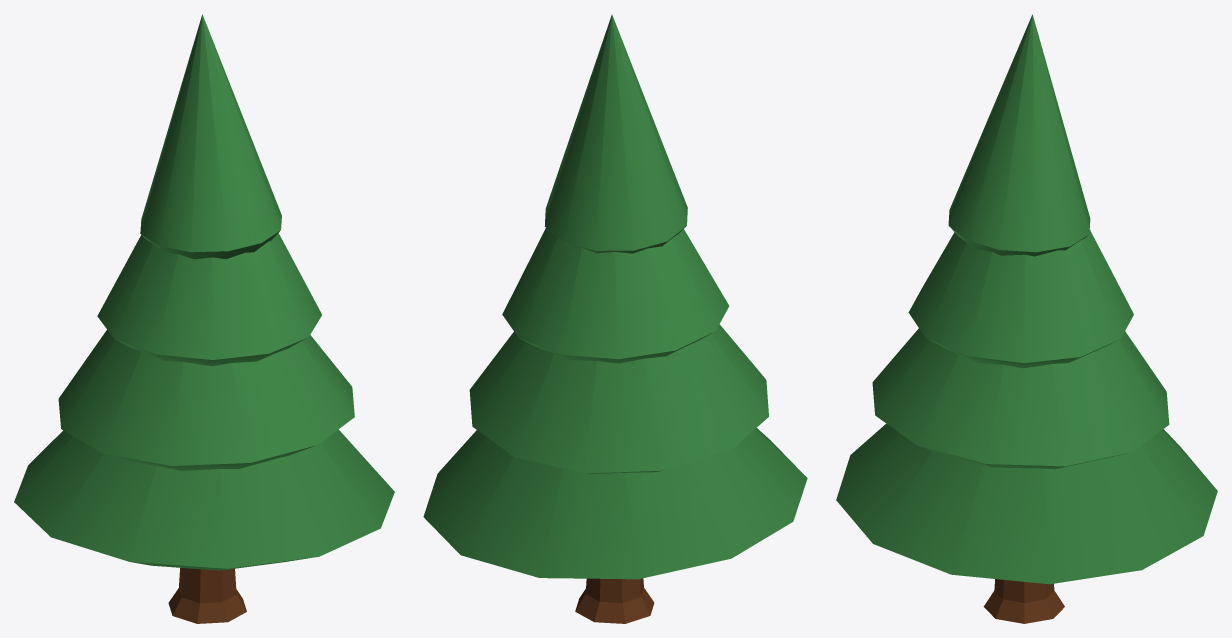
File: p_tree_pine_3.glb
3 renders of one model, left to right at view 1: azimuth 30°, elevation 25°; view 2: azimuth 150°, elevation 25°; view 3: azimuth 270°, elevation 25°, orthographic.
Parts seen in each view (by area): view 1: body; view 2: body; view 3: body.
Boxes of the visible parts, x1,y1,x2,y2 form: body: [14, 14, 394, 623]; body: [423, 14, 807, 623]; body: [836, 14, 1217, 623].
Size of the model in its own units: 3.93 by 6.73 by 3.93.
